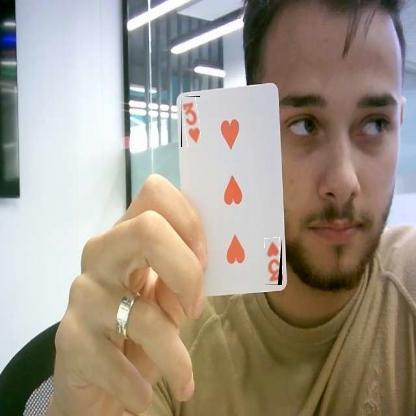3H: (181, 96, 200, 147), (265, 238, 282, 285)
